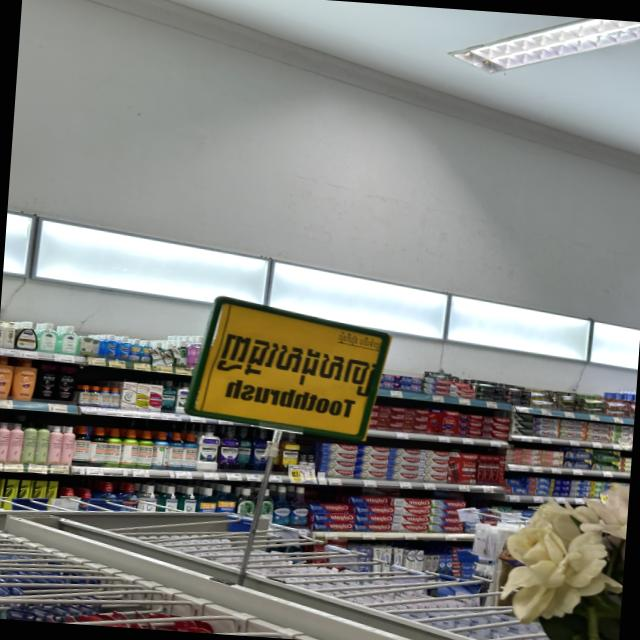Yolov11_80vkh: (211, 325, 383, 400)
